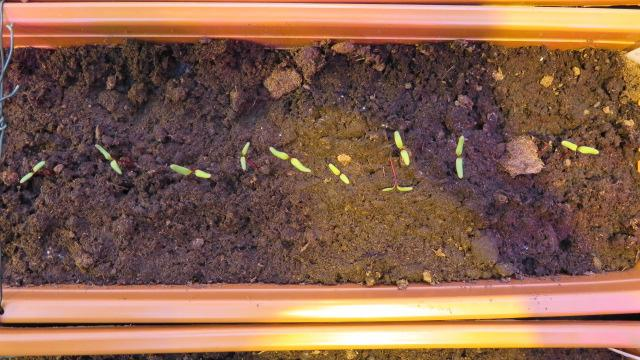crop: (264, 143, 312, 172), (89, 141, 123, 174), (390, 127, 413, 166), (555, 137, 604, 155), (450, 132, 468, 179), (15, 158, 47, 183), (165, 162, 215, 178), (324, 161, 351, 185), (236, 138, 251, 170)
